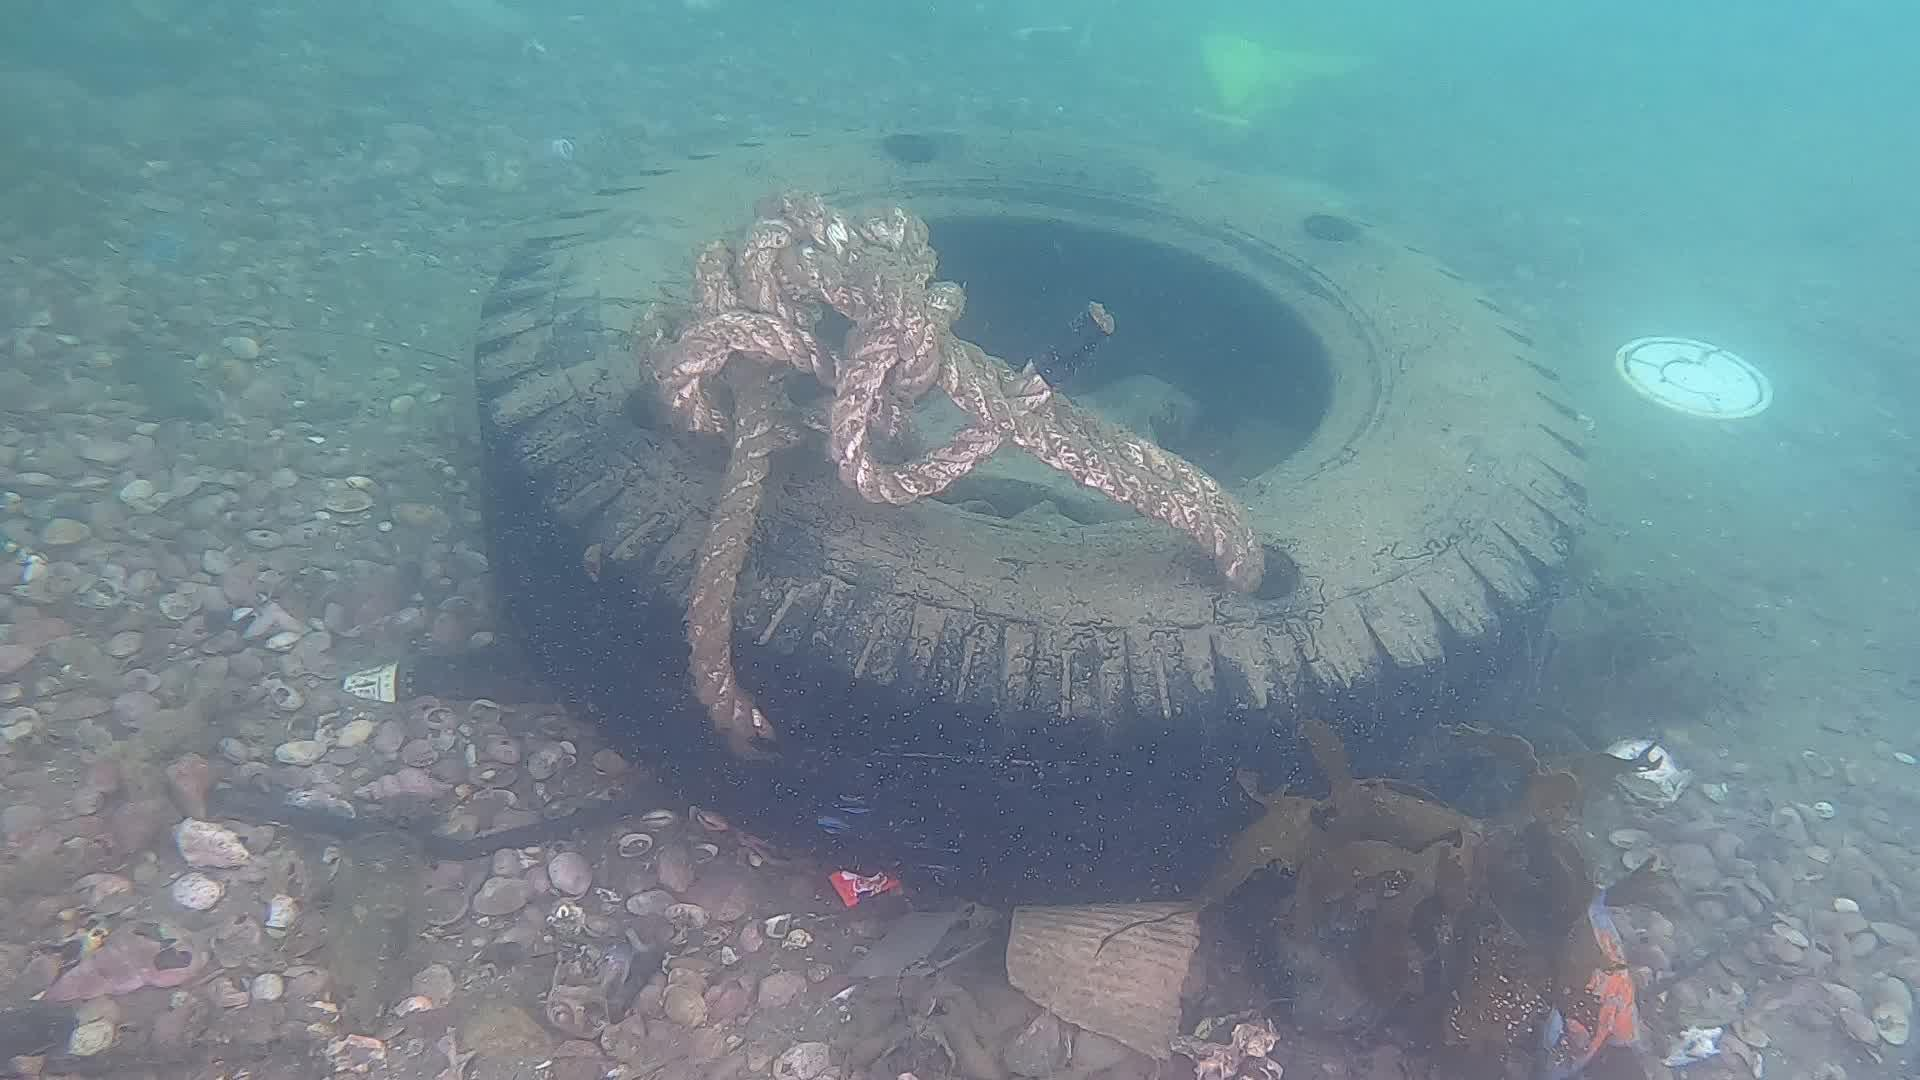bundle of ropes: (625, 179, 1274, 765)
tire: (473, 112, 1594, 860)
